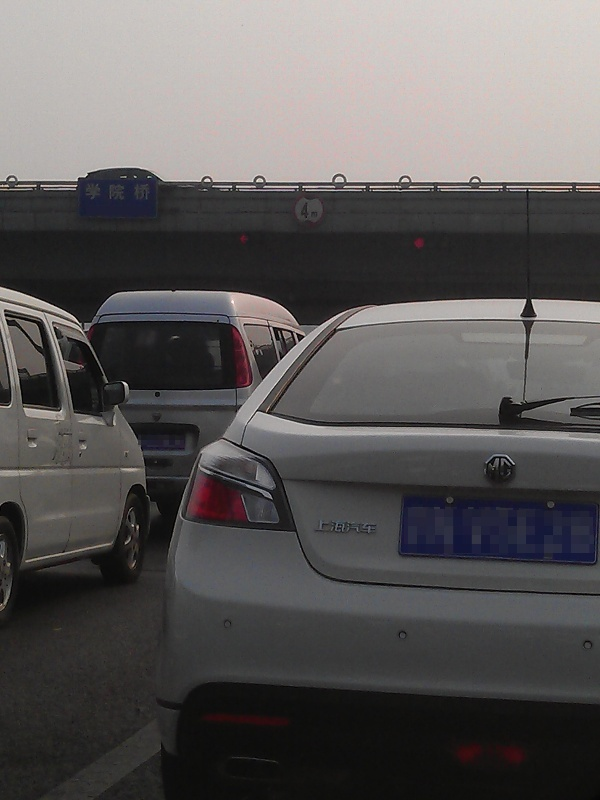text: (497, 457, 513, 484), (321, 516, 336, 538), (337, 516, 352, 538), (353, 516, 368, 538), (97, 182, 112, 201), (113, 182, 128, 201), (129, 182, 144, 201), (305, 201, 320, 220), (486, 457, 496, 484), (85, 182, 96, 201), (369, 516, 377, 538), (314, 516, 320, 538), (145, 182, 151, 201), (301, 201, 304, 220)
